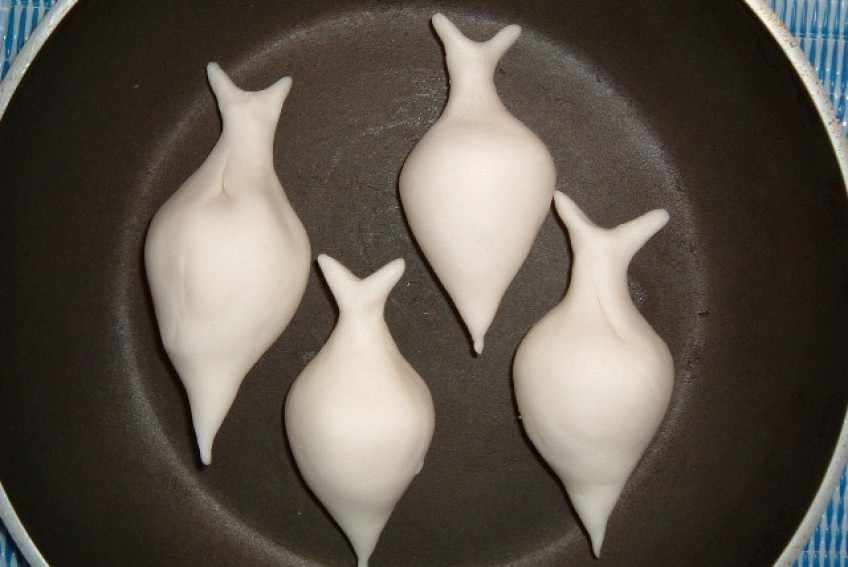yomari: (526, 194, 718, 561), (150, 55, 294, 464), (299, 251, 433, 535), (403, 14, 541, 269)
